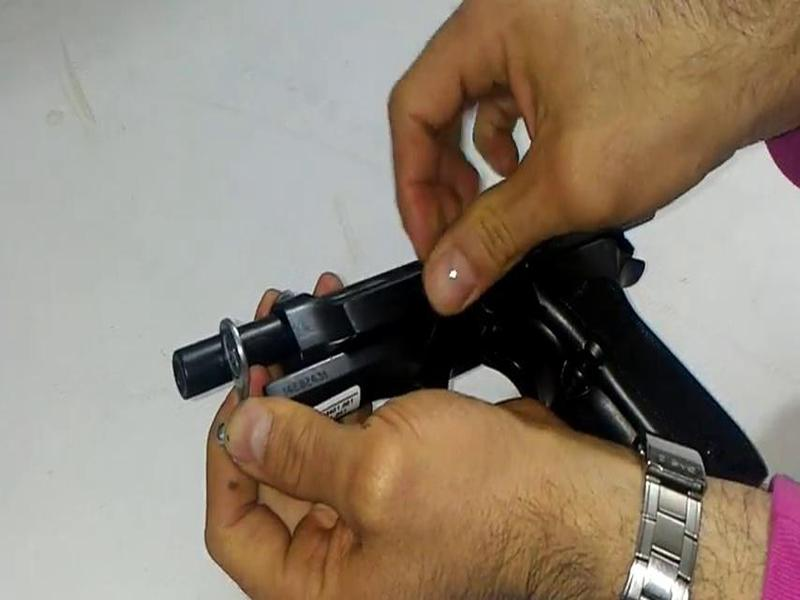Pistola: (130, 163, 797, 548)
